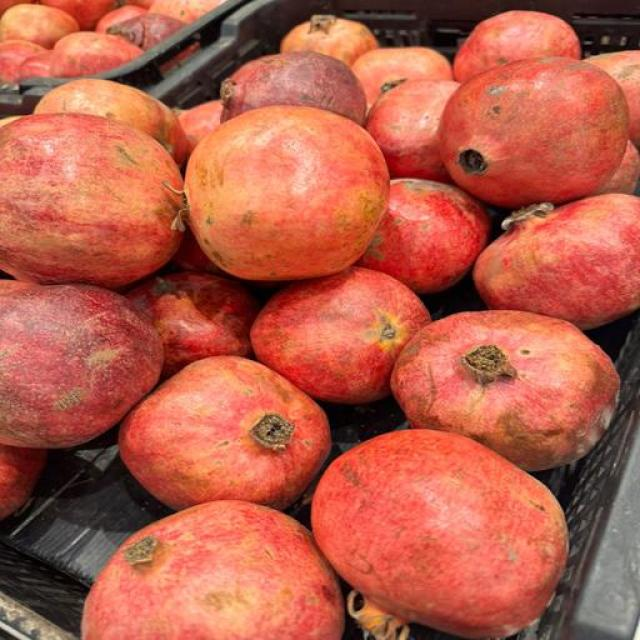organic: (312, 430, 567, 638), (392, 310, 619, 471), (83, 502, 343, 639), (185, 107, 388, 281), (120, 357, 331, 509), (0, 114, 182, 288), (439, 58, 628, 208), (0, 285, 162, 448), (250, 268, 429, 403), (474, 194, 639, 328), (359, 179, 489, 293), (127, 272, 258, 377), (34, 79, 188, 164), (222, 52, 366, 124), (367, 80, 458, 182), (454, 10, 581, 82), (352, 48, 452, 107), (585, 50, 639, 144), (280, 15, 378, 66), (52, 32, 142, 77), (0, 4, 79, 48), (0, 445, 46, 519), (108, 13, 186, 51), (40, 0, 121, 31), (178, 100, 223, 152), (173, 229, 223, 274), (597, 142, 639, 194), (0, 40, 46, 83), (149, 0, 223, 22), (95, 5, 147, 32), (18, 52, 52, 81), (0, 279, 38, 294), (0, 0, 34, 14), (128, 0, 153, 8), (0, 117, 20, 126)
